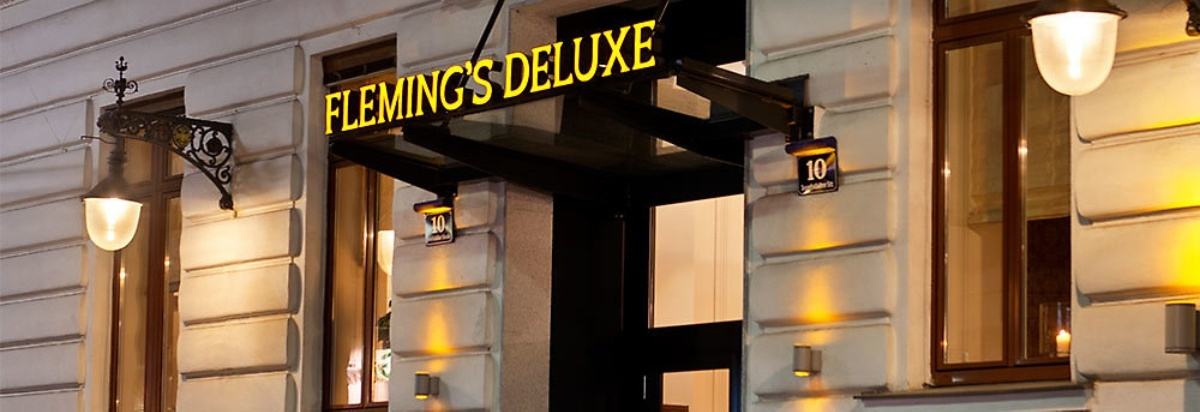text: (641, 17, 657, 100), (513, 17, 528, 100), (529, 17, 544, 100), (545, 17, 560, 100), (561, 17, 576, 100), (577, 17, 592, 100), (593, 17, 608, 100), (609, 17, 624, 100), (625, 17, 640, 100), (337, 56, 352, 136), (353, 56, 368, 136), (369, 56, 384, 136), (385, 56, 400, 136), (401, 56, 416, 136), (417, 56, 432, 136), (433, 56, 448, 136), (449, 56, 464, 136), (465, 56, 480, 136), (481, 56, 495, 136), (323, 56, 336, 136), (503, 17, 512, 100), (817, 157, 828, 182), (433, 214, 446, 235), (806, 157, 816, 182), (801, 179, 816, 194), (817, 179, 832, 194), (433, 234, 448, 243), (423, 234, 432, 243), (833, 179, 838, 194), (449, 234, 453, 243), (431, 214, 432, 235), (799, 179, 800, 194)
